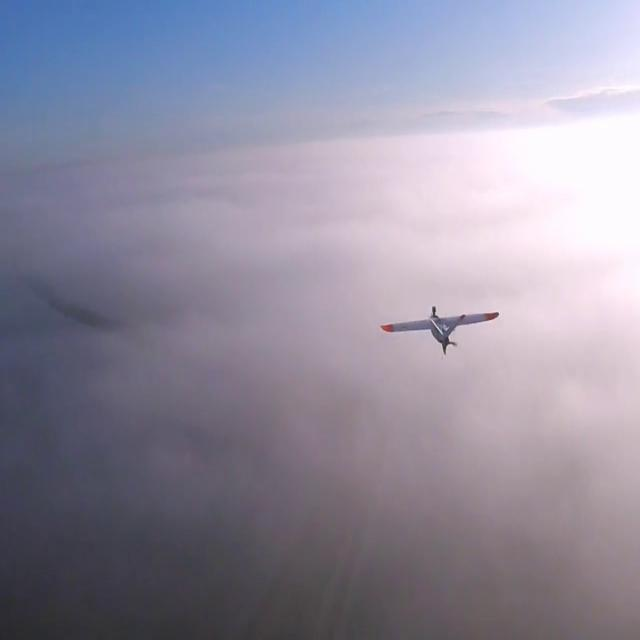iha: (413, 304, 467, 361)
